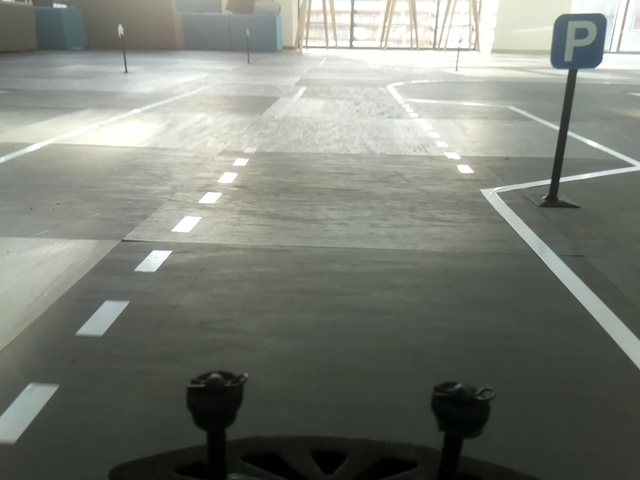parking: (550, 14, 607, 71)
